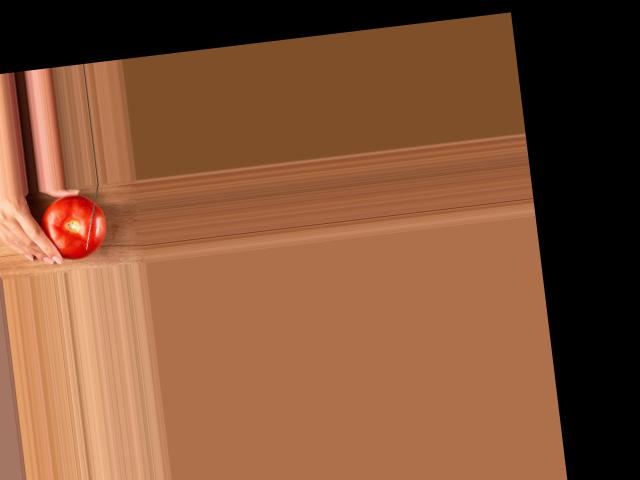tomato: (38, 192, 109, 262)
